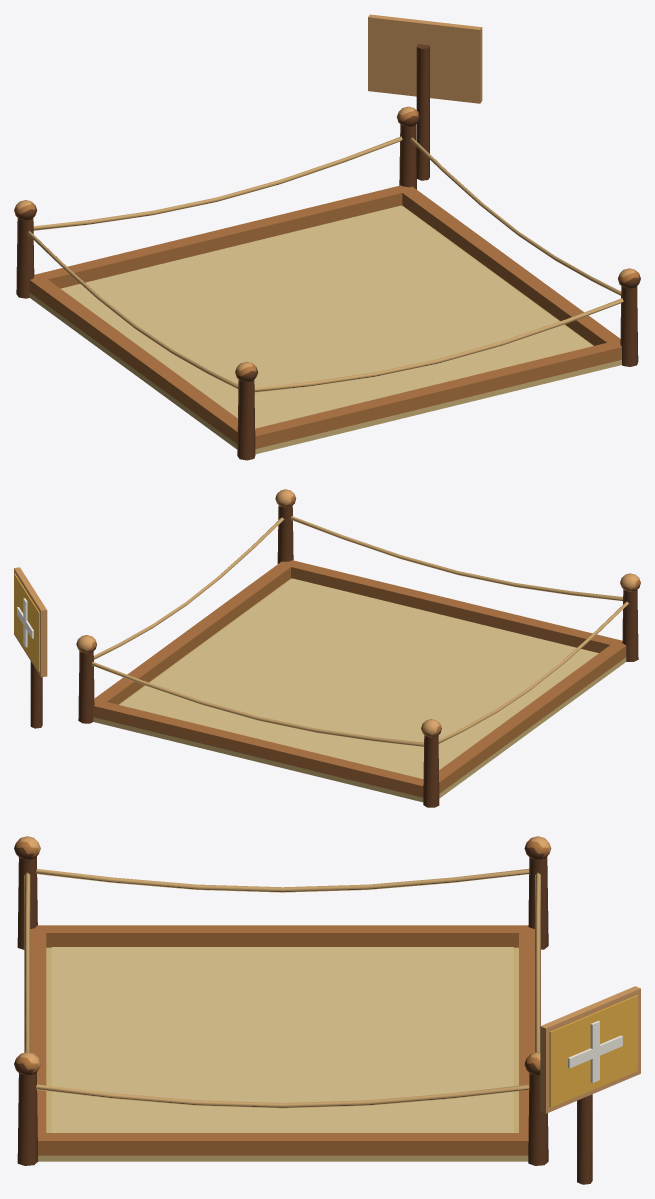
File: build_plot_small.obj
3 views of the same model, one above another, from view 1: azimuth 30°, elevation 25°; view 2: azimuth 150°, elevation 25°; view 3: azimuth 270°, elevation 25° (orthographic). The views are drawn at different scales.
Parts seen in each view (by area): view 1: build_plot_small_sand_wet, build_plot_small_wood_mid, build_plot_small_wood_light, build_plot_small_wood_dark, build_plot_small_rope, build_plot_small_sand_dark; view 2: build_plot_small_sand_wet, build_plot_small_wood_mid, build_plot_small_rope, build_plot_small_wood_dark, build_plot_small_sand_dark, build_plot_small_wood_light, build_plot_small_gold; view 3: build_plot_small_sand_wet, build_plot_small_wood_mid, build_plot_small_rope, build_plot_small_wood_dark, build_plot_small_gold, build_plot_small_sand_dark, build_plot_small_wood_light, build_plot_small_cloth.
Part boxes in pixels (bbox=[...]): build_plot_small_sand_wet: bbox=[61, 205, 592, 428]; build_plot_small_wood_mid: bbox=[14, 108, 639, 448]; build_plot_small_wood_light: bbox=[15, 14, 635, 370]; build_plot_small_wood_dark: bbox=[15, 44, 640, 460]; build_plot_small_rope: bbox=[27, 136, 623, 392]; build_plot_small_sand_dark: bbox=[29, 205, 621, 454]; build_plot_small_sand_wet: bbox=[120, 578, 598, 778]; build_plot_small_wood_mid: bbox=[76, 492, 640, 797]; build_plot_small_rope: bbox=[91, 516, 628, 746]; build_plot_small_wood_dark: bbox=[30, 499, 640, 807]; build_plot_small_sand_dark: bbox=[93, 578, 626, 802]; build_plot_small_wood_light: bbox=[14, 489, 638, 735]; build_plot_small_gold: bbox=[14, 573, 39, 671]; build_plot_small_sand_wet: bbox=[51, 947, 513, 1132]; build_plot_small_wood_mid: bbox=[16, 838, 550, 1155]; build_plot_small_rope: bbox=[24, 868, 540, 1108]; build_plot_small_wood_dark: bbox=[14, 843, 592, 1184]; build_plot_small_gold: bbox=[549, 995, 637, 1107]; build_plot_small_sand_dark: bbox=[38, 947, 528, 1161]; build_plot_small_wood_light: bbox=[20, 836, 640, 1113]; build_plot_small_cloth: bbox=[568, 1021, 622, 1082].
Bounding box in the file's own units: 4.67 × 1.45 × 4.67.
